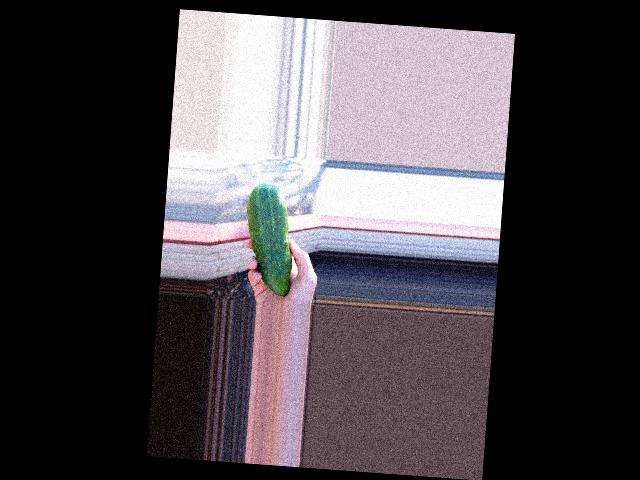cucumber: (240, 181, 297, 296)
